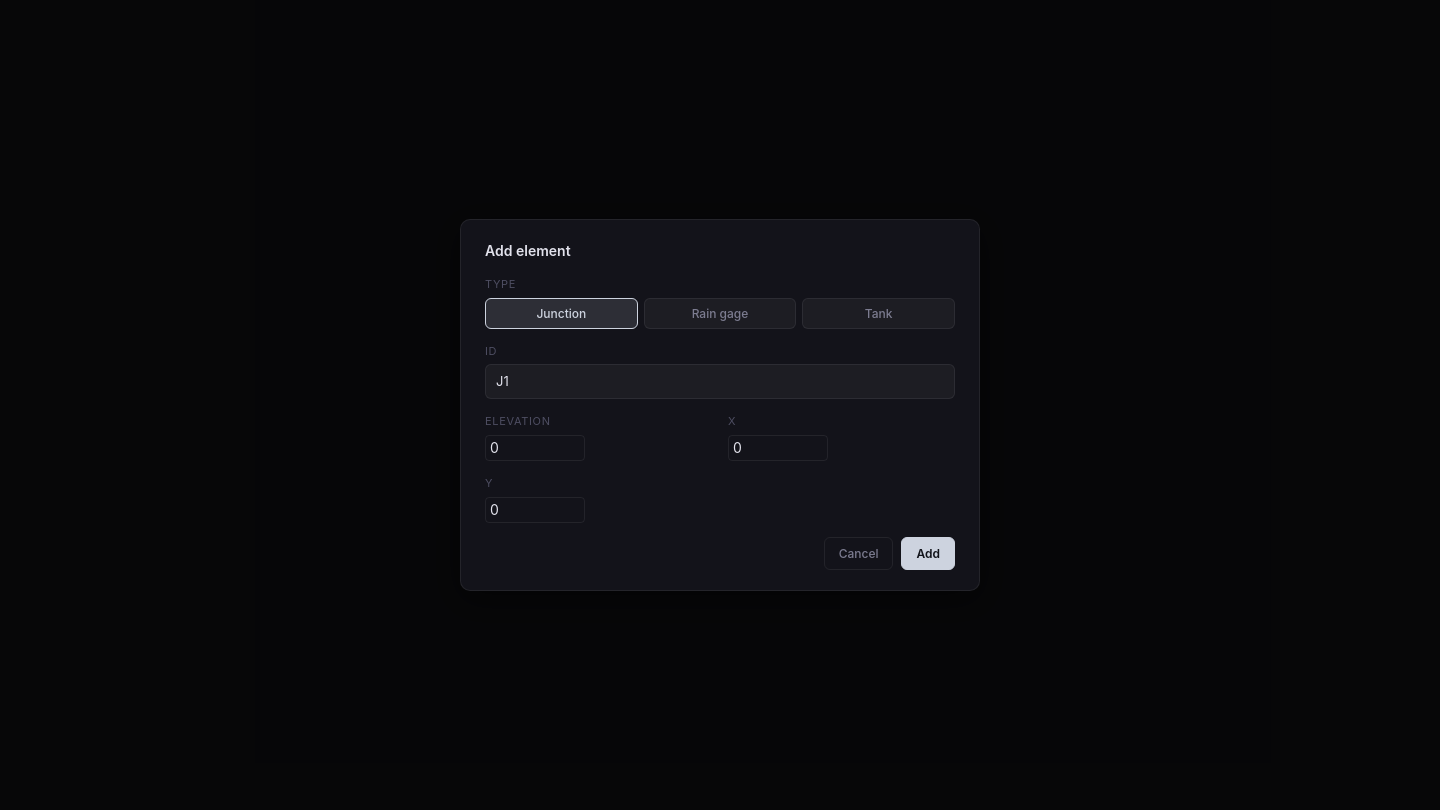
Scenario: CreateElementModal › asks the next kind's fields when the kind changes
The width and height of the screenshot is (1440, 810).
Click the button "Tank" at (879,313), box [802,298,955,329]
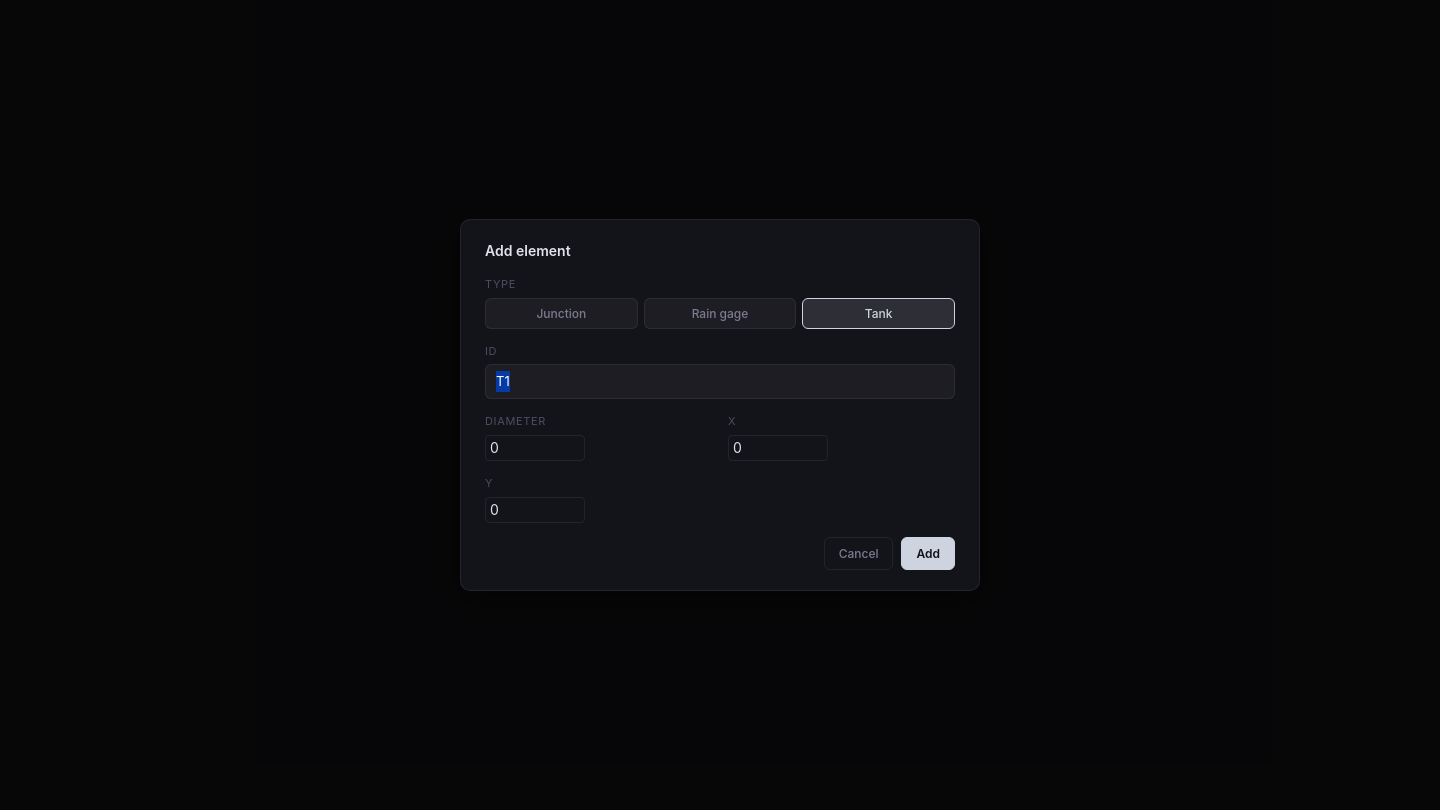
Expected: the field named "Diameter" is shown, [485,435,585,461]
Expected: the text labelled "Elevation" is gone
